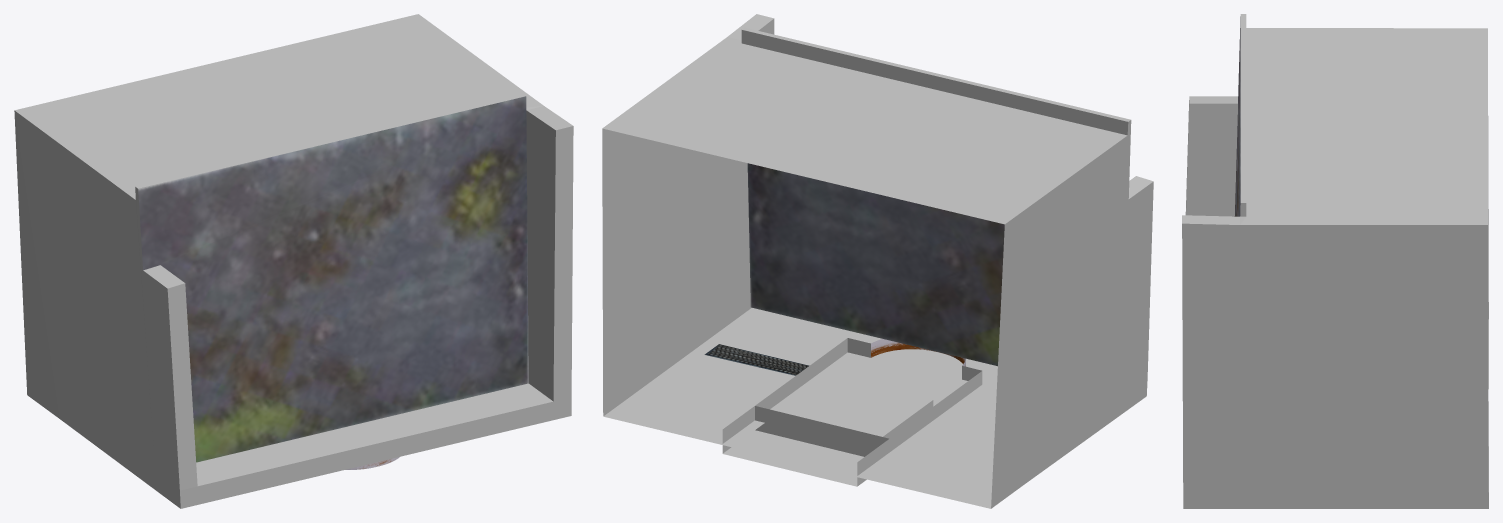
File: Aia_22e.obj
3 renders of one model, left to right at view 1: azimuth 30°, elevation 25°; view 2: azimuth 150°, elevation 25°; view 3: azimuth 270°, elevation 25°, orthographic.
Visible parts, largest first — view 1: Aia_22e; view 2: Aia_22e; view 3: Aia_22e.
Part boxes in pixels (x1=…): Aia_22e: x1=14, y1=14, x2=573, y2=508; Aia_22e: x1=602, y1=14, x2=1153, y2=508; Aia_22e: x1=1182, y1=14, x2=1488, y2=508.
Size of the model in its own units: 9.3 by 6.87 by 6.17.
